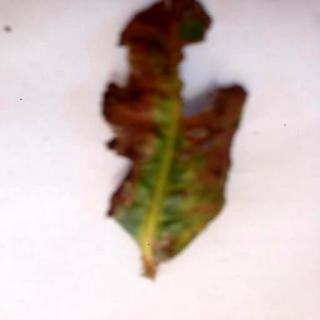Algal Leaf: (102, 2, 249, 285)
